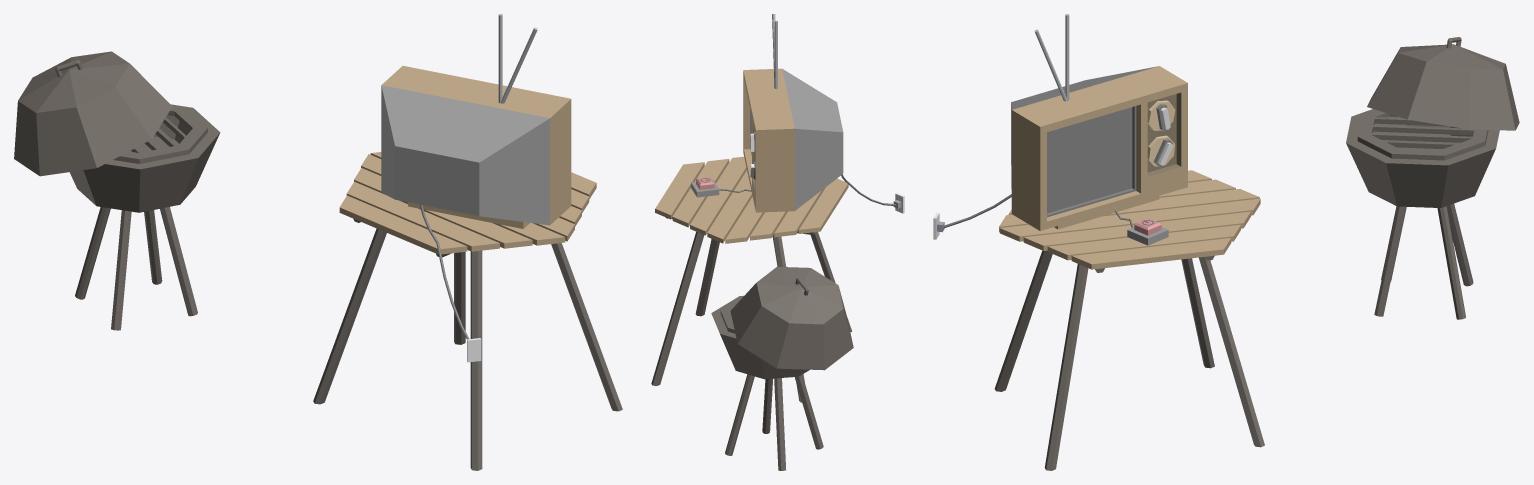
File: TVBBQ.dae
The picture shows the model from 3 angles, left to right: view 1: azimuth 30°, elevation 25°; view 2: azimuth 150°, elevation 25°; view 3: azimuth 270°, elevation 25°; orthographic projection. The views are drawn at different scales.
Visible parts, largest first — view 1: TVBBQ; view 2: TVBBQ; view 3: TVBBQ.
Boxes of the visible parts, x1,y1,x2,y2 form: TVBBQ: (14,14,622,470); TVBBQ: (651,14,904,470); TVBBQ: (933,14,1519,470).
Bounding box in the file's own units: 6.74 × 8.94 × 6.77.
